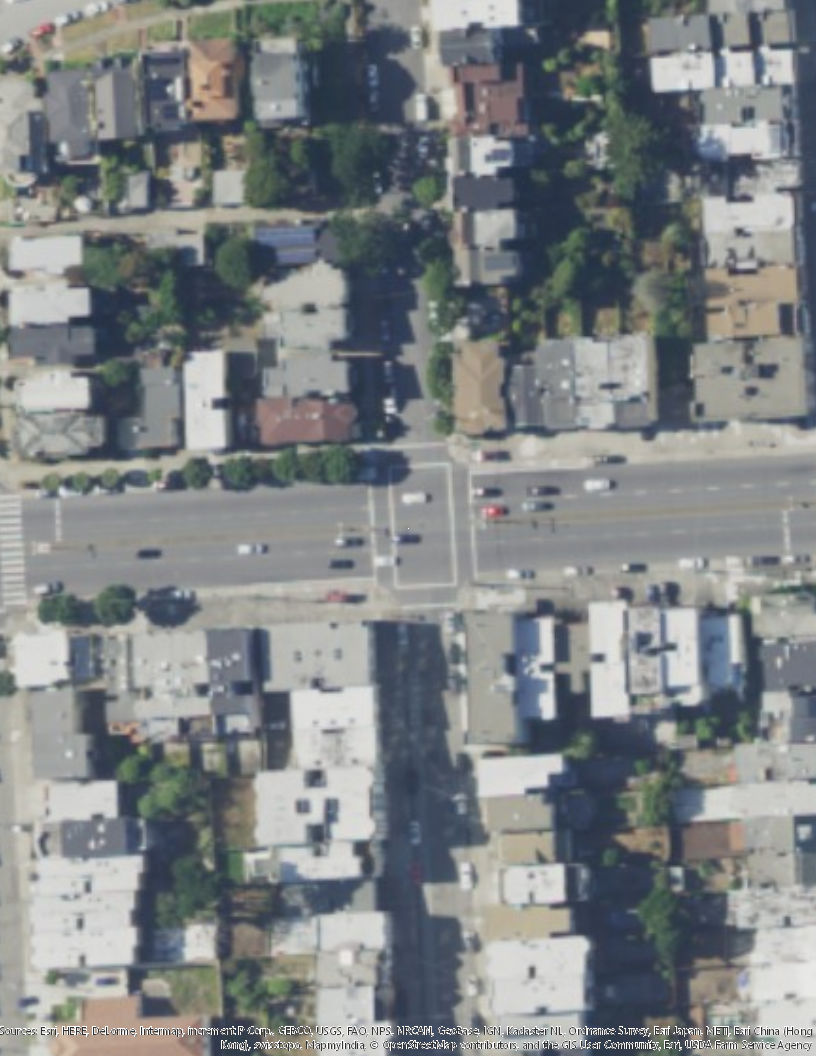zebracross: (1, 492, 25, 614)
